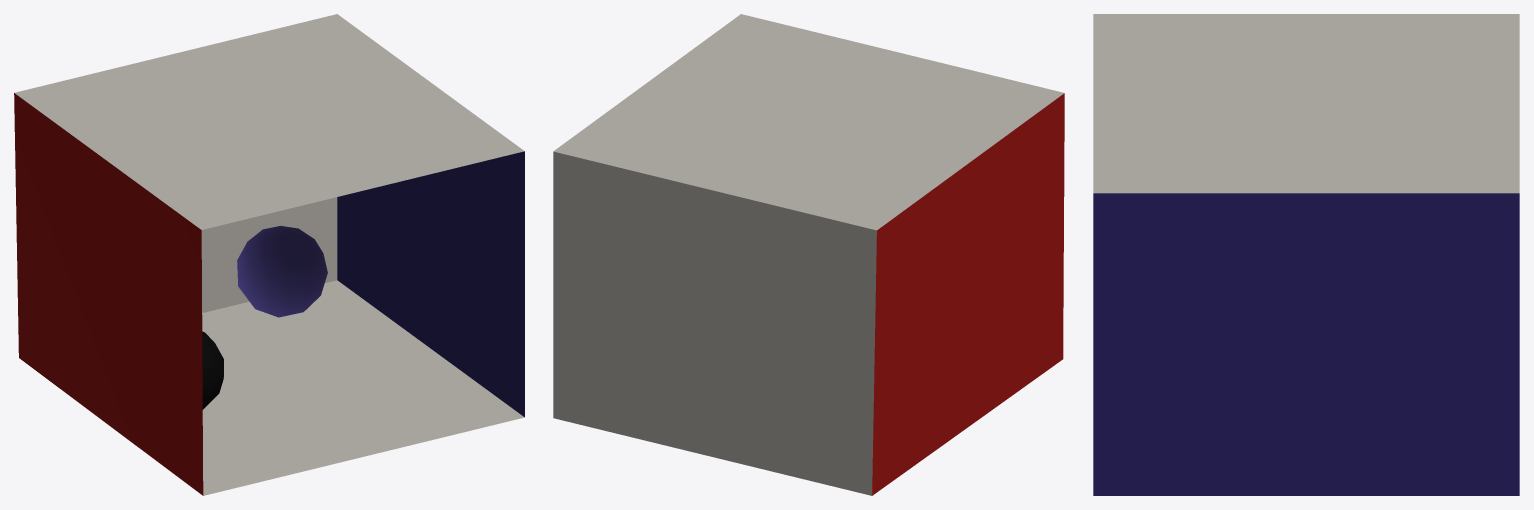
Rendered from CornellBox-Sphere-462.obj.
The picture shows the model from 3 angles, left to right: view 1: azimuth 30°, elevation 25°; view 2: azimuth 150°, elevation 25°; view 3: azimuth 270°, elevation 25°; orthographic projection. The views are drawn at different scales.
Parts seen in each view (by area): view 1: ceiling, leftWall, floor, rightWall, leftSphere, backWall, rightSphere; view 2: backWall, ceiling, leftWall; view 3: rightWall, ceiling.
Boxes of the visible parts, x1,y1,x2,y2 form: ceiling: (14, 14, 524, 229); leftWall: (14, 93, 203, 495); floor: (202, 280, 524, 495); rightWall: (337, 151, 524, 417); leftSphere: (237, 226, 327, 317); backWall: (201, 197, 337, 312); rightSphere: (202, 331, 223, 409); backWall: (553, 151, 876, 495); ceiling: (553, 14, 1064, 230); leftWall: (872, 93, 1064, 495); rightWall: (1093, 193, 1519, 495); ceiling: (1093, 14, 1519, 193).
Size of the model in its own units: 2.02 by 1.59 by 2.03.
